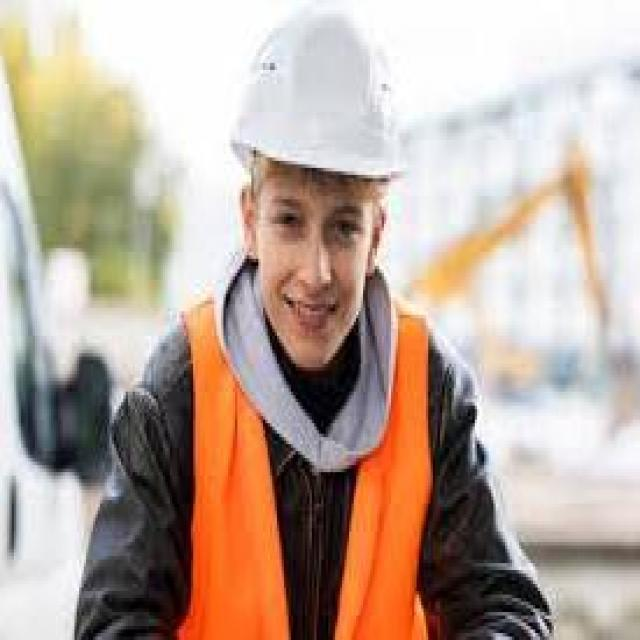reflective_jacket: (163, 304, 454, 632)
safety_helmet: (225, 7, 414, 189)
